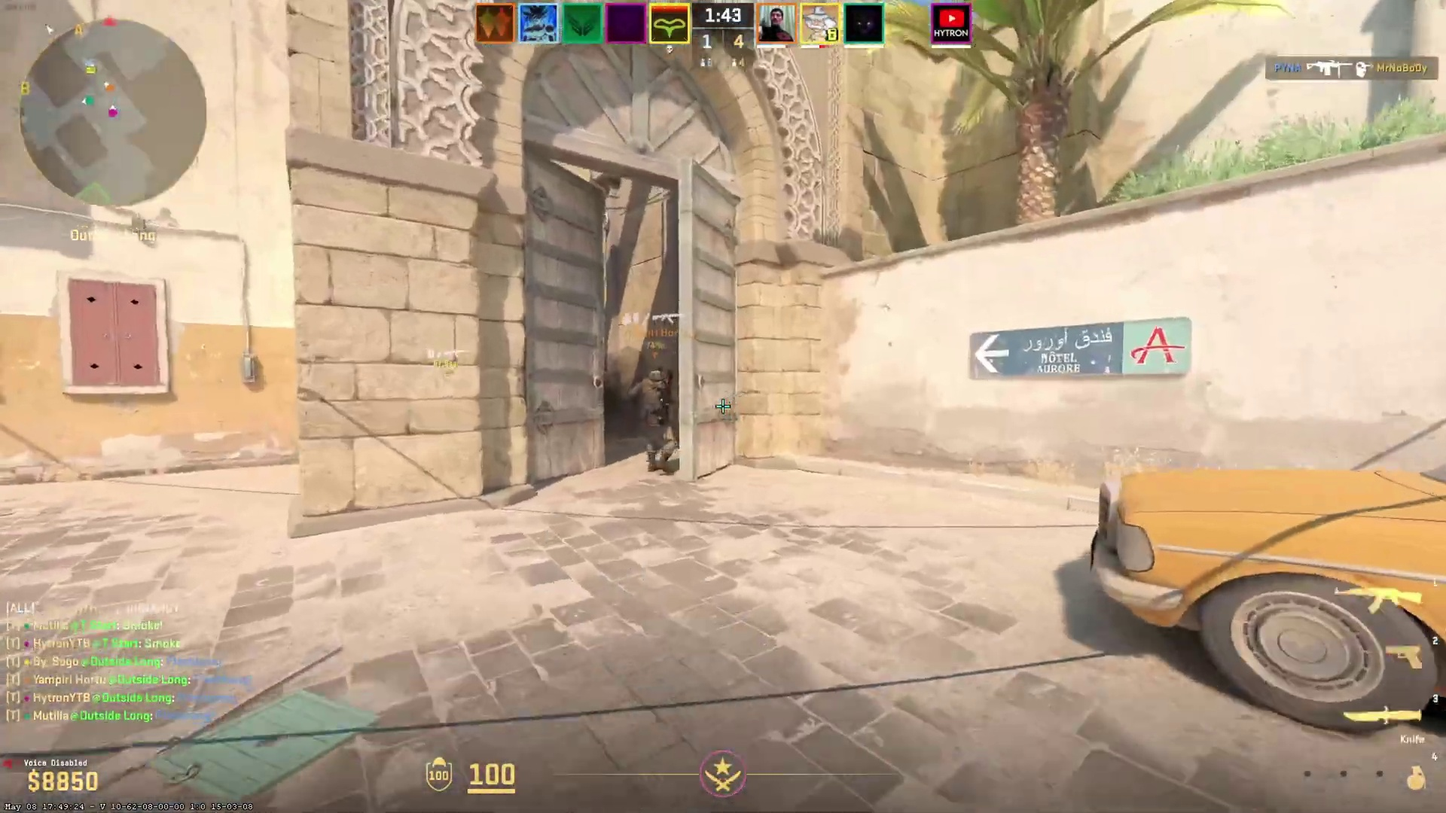Terrorist: (633, 364, 673, 471)
